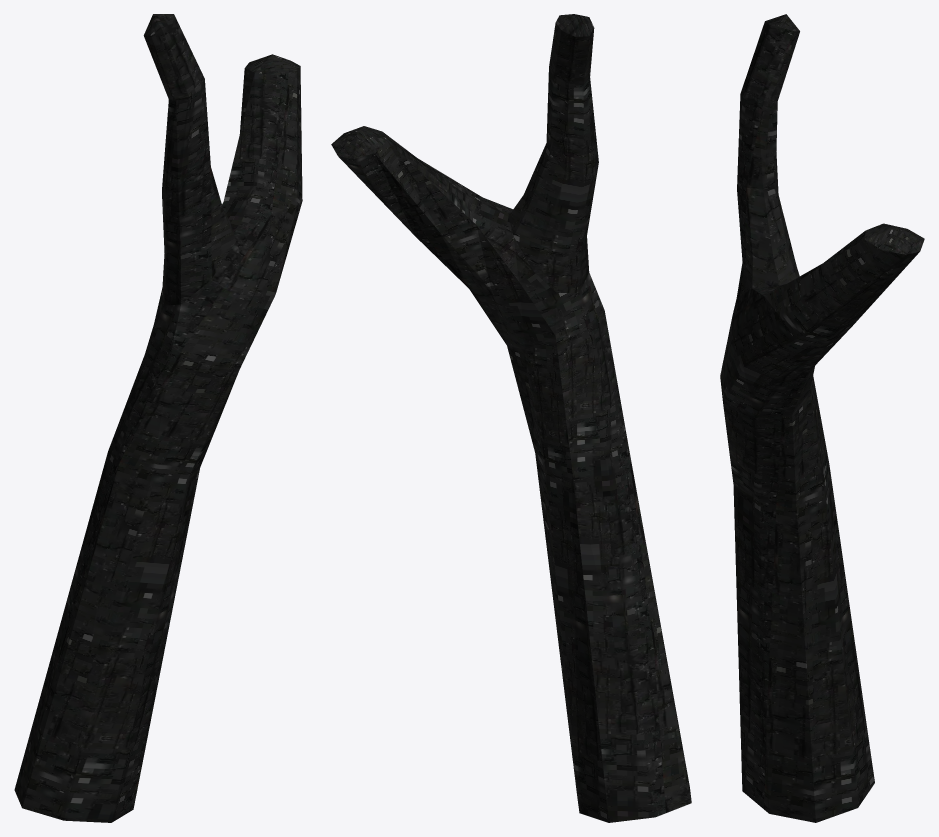
The model's file is 1_BURNT_01_23-transformed.glb.
The picture shows the model from 3 angles, left to right: view 1: azimuth 30°, elevation 25°; view 2: azimuth 150°, elevation 25°; view 3: azimuth 270°, elevation 25°; orthographic projection. The views are drawn at different scales.
Parts seen in each view (by area): view 1: default; view 2: default; view 3: default.
Part boxes in pixels (<box>): default: <box>14,14,302,822</box>; default: <box>331,14,691,822</box>; default: <box>720,14,924,822</box>.
Bounding box in the file's own units: 1.64 × 3.87 × 0.8791.
1 material, 1 textured.
